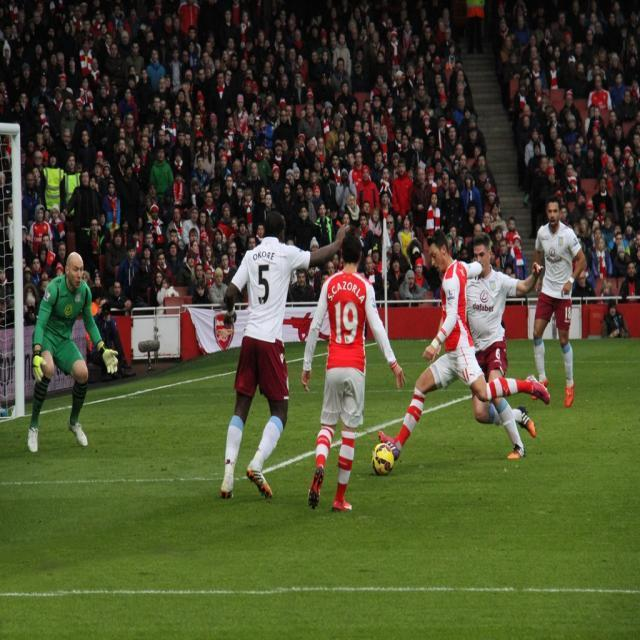football: (354, 438, 401, 484)
